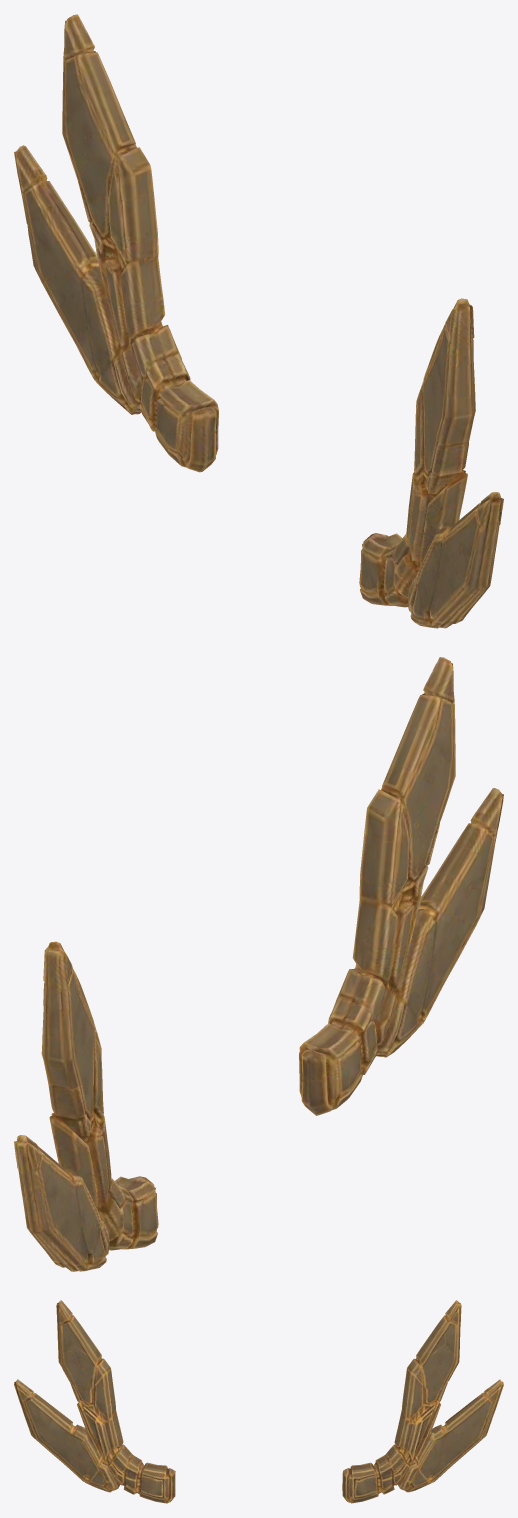
The model's file is rank-3-lean-256.glb.
3 views of the same model, one above another, from view 1: azimuth 30°, elevation 25°; view 2: azimuth 150°, elevation 25°; view 3: azimuth 270°, elevation 25° (orthographic). The views are drawn at different scales.
Visible parts, largest first — view 1: chassis; view 2: chassis; view 3: chassis.
Boxes of the visible parts, bbox=[...] form: chassis: bbox=[14, 14, 503, 628]; chassis: bbox=[14, 657, 503, 1271]; chassis: bbox=[14, 1300, 503, 1503].
Size of the model in its own units: 0.0633 by 0.3801 by 0.8594.
Materials: 1 (1 with a texture image).
